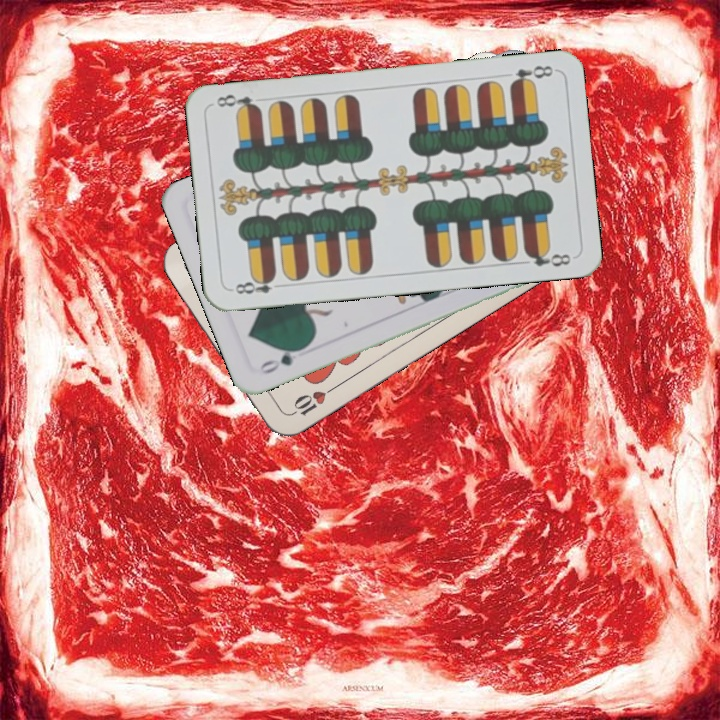E8: (228, 272, 287, 297), (505, 61, 556, 89)
GO: (254, 342, 309, 377)
H10: (283, 382, 337, 419)
